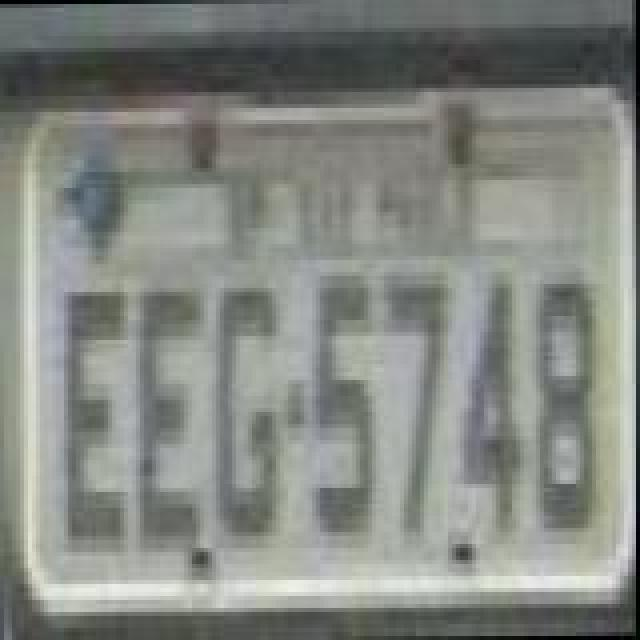4: (462, 278, 530, 530)
5: (310, 272, 378, 544)
7: (382, 268, 450, 544)
8: (534, 272, 602, 536)
E: (130, 284, 206, 552), (62, 288, 130, 552)
G: (212, 284, 284, 552)
